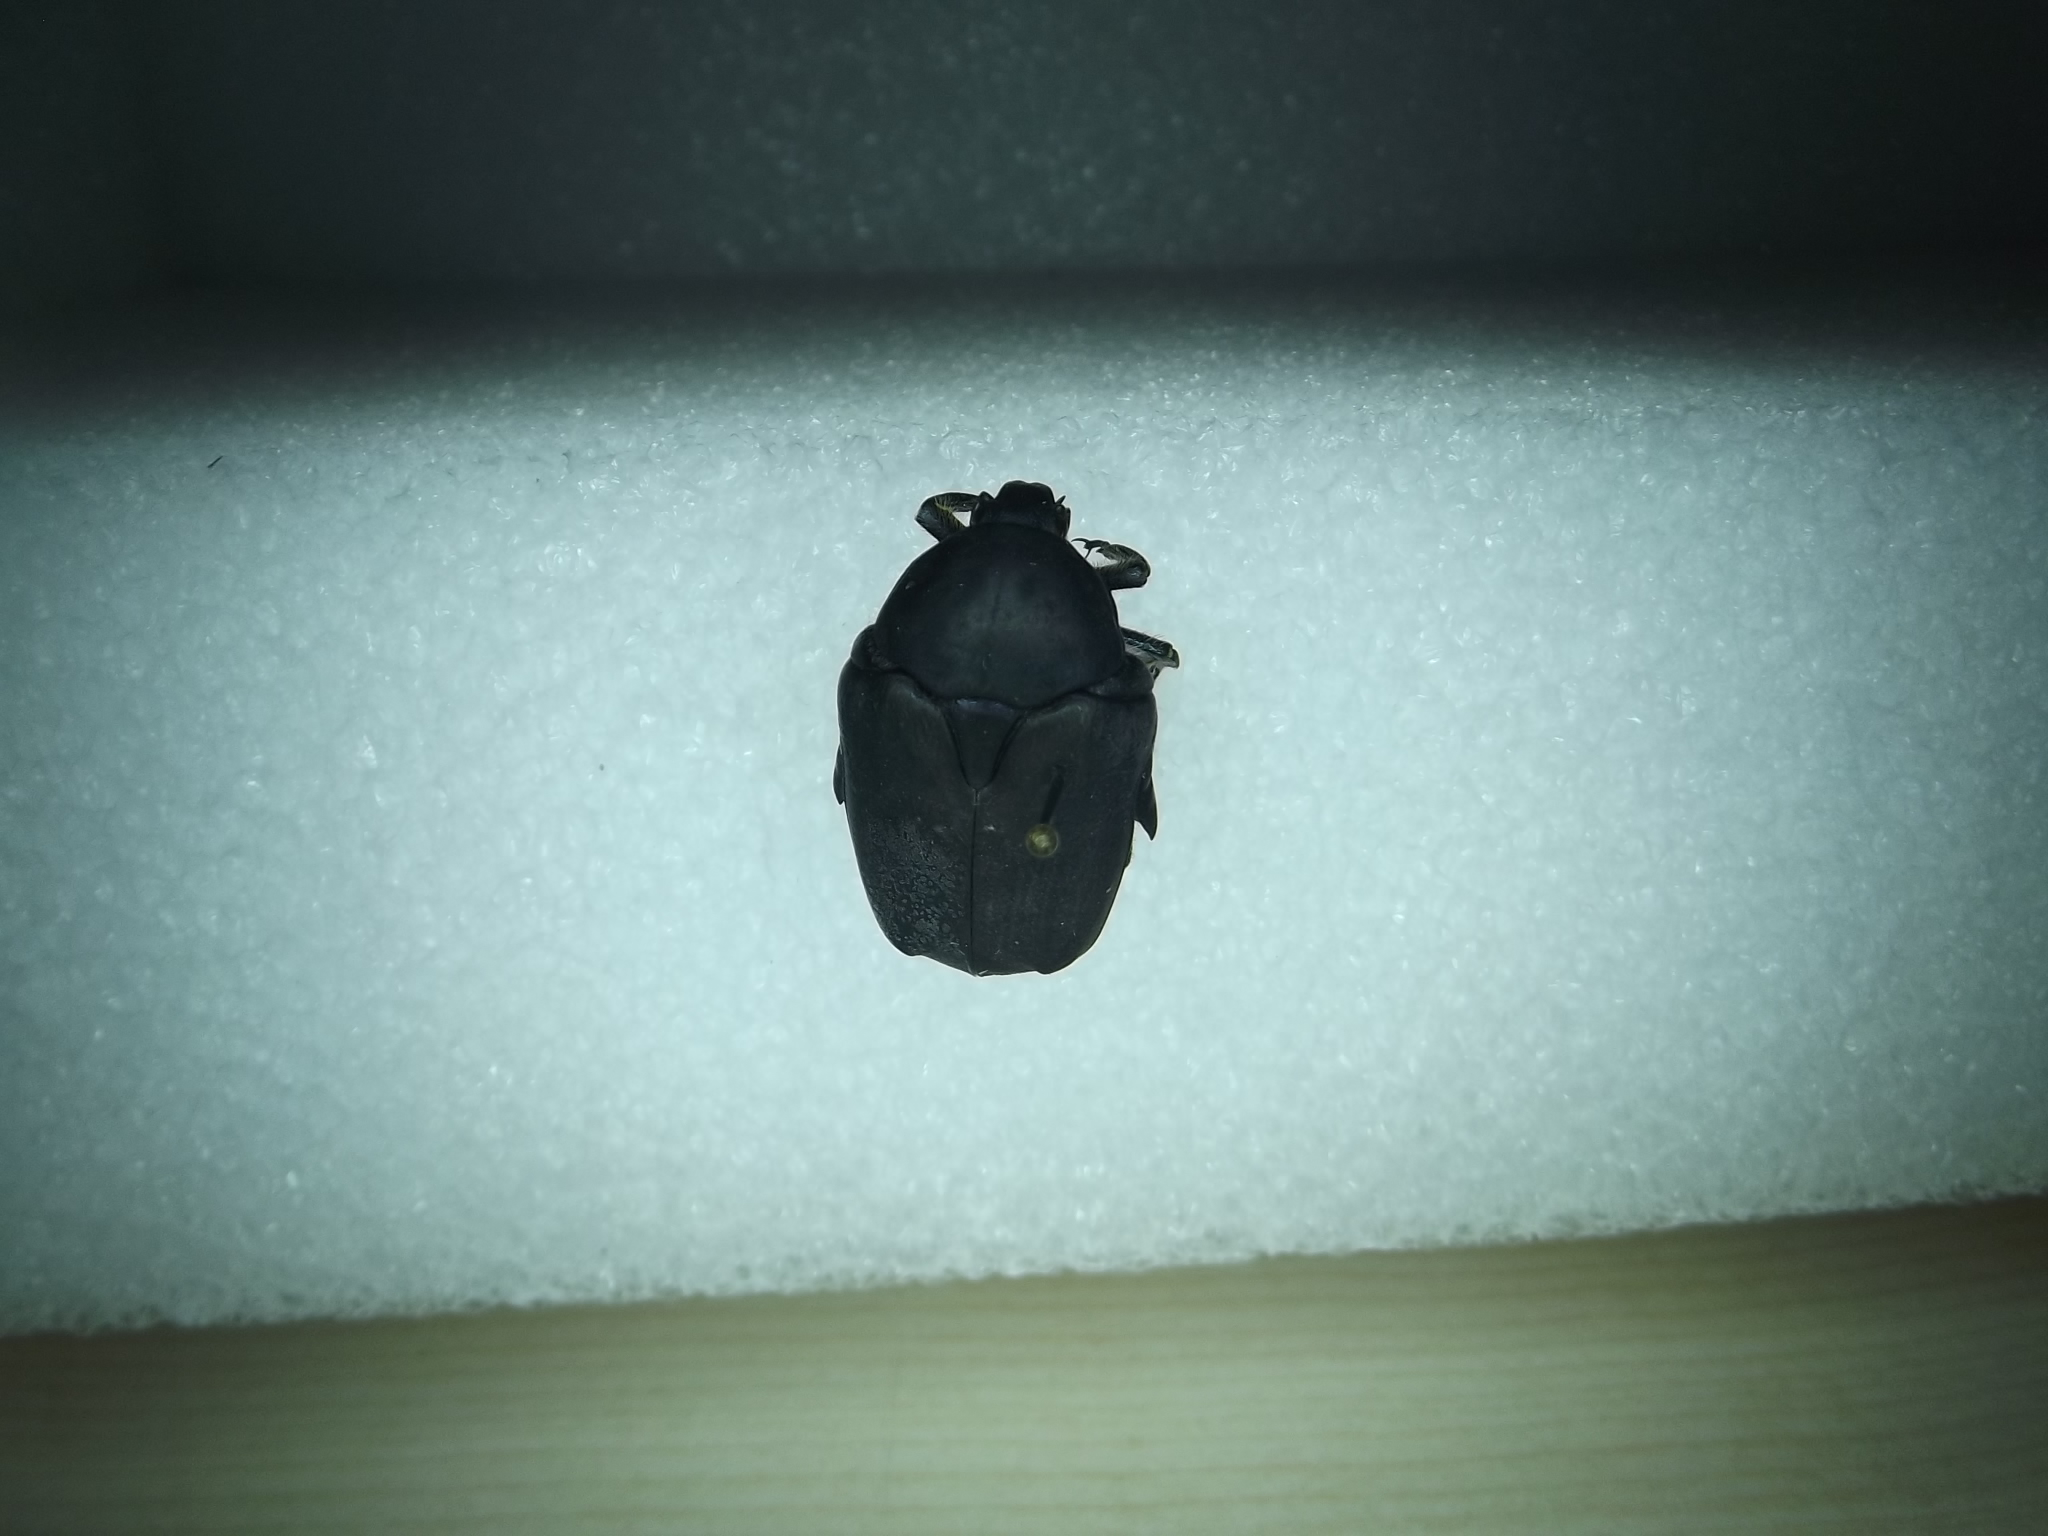Protaetia_afflicta: (827, 474, 1192, 983)
